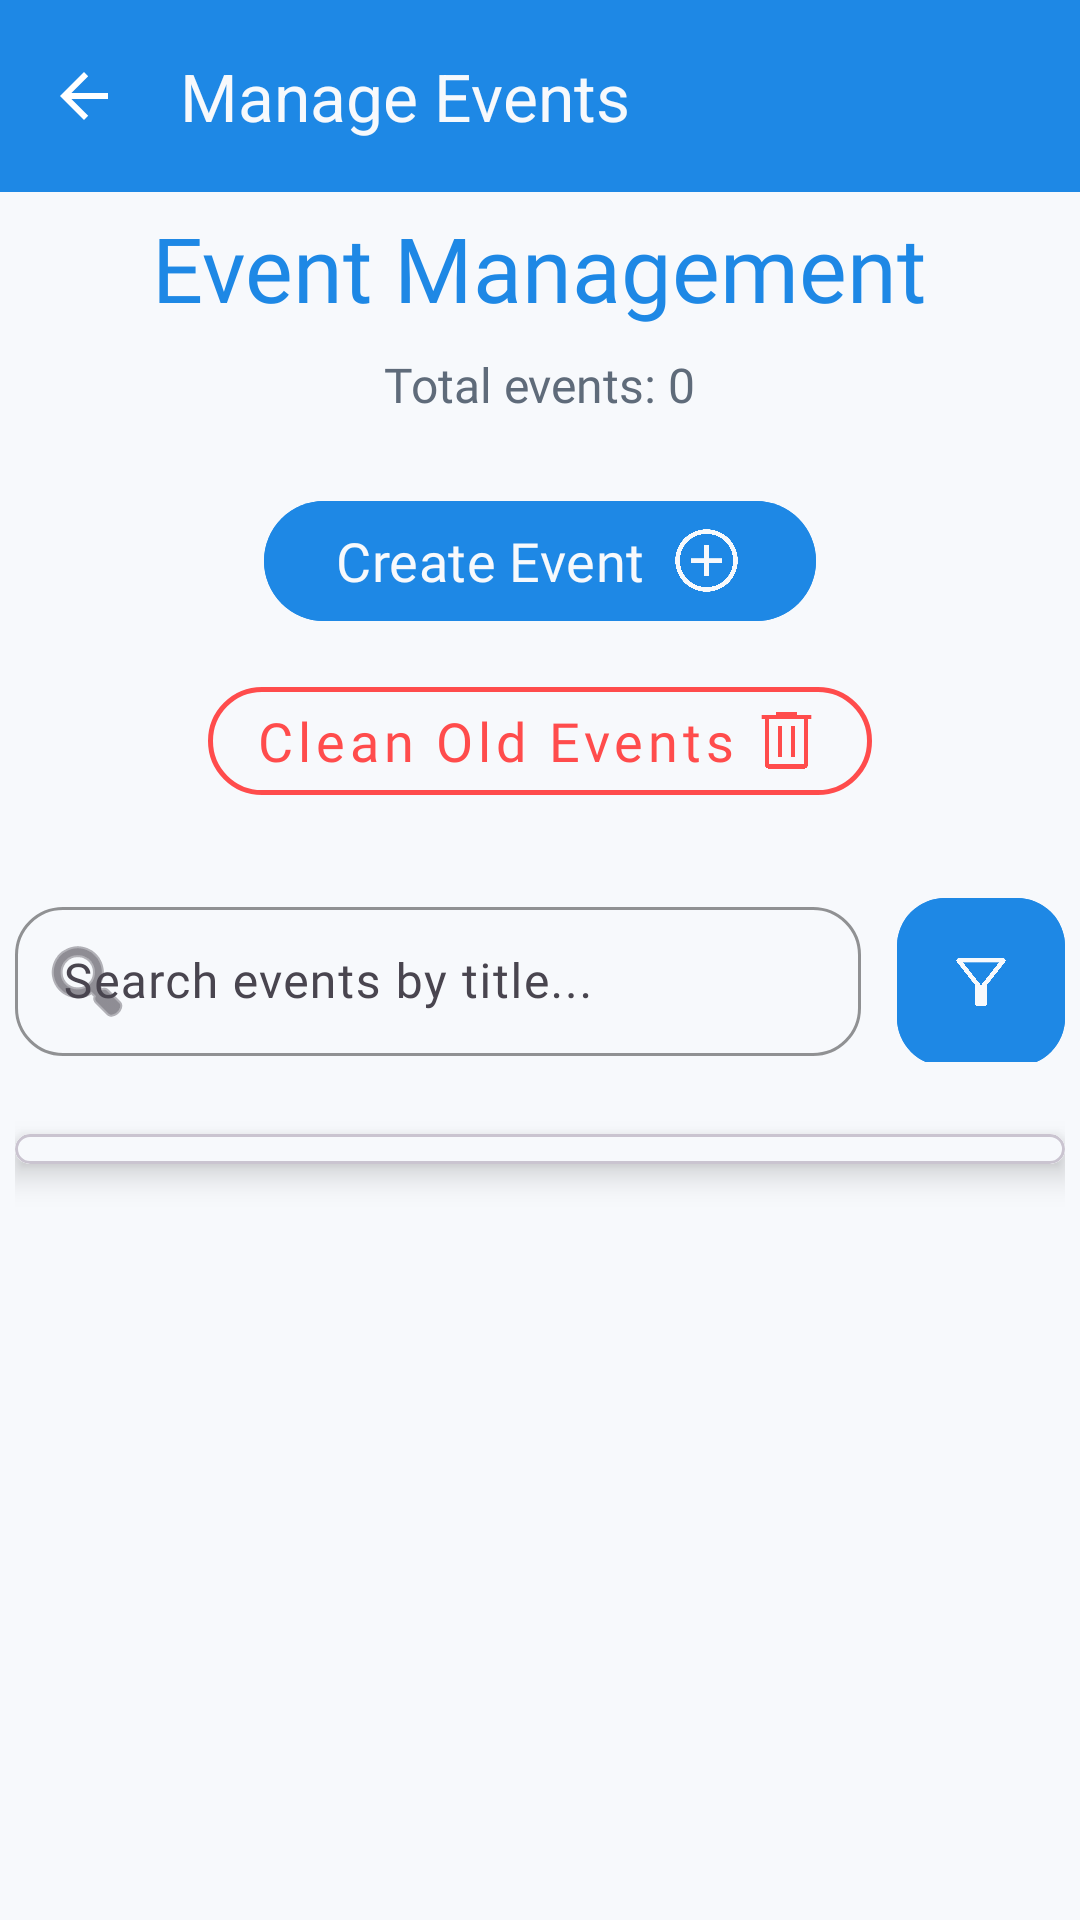

Screen size 1080*1920. Icon name, then its center in pixels as (x,y):
Filter events: (981,980)
